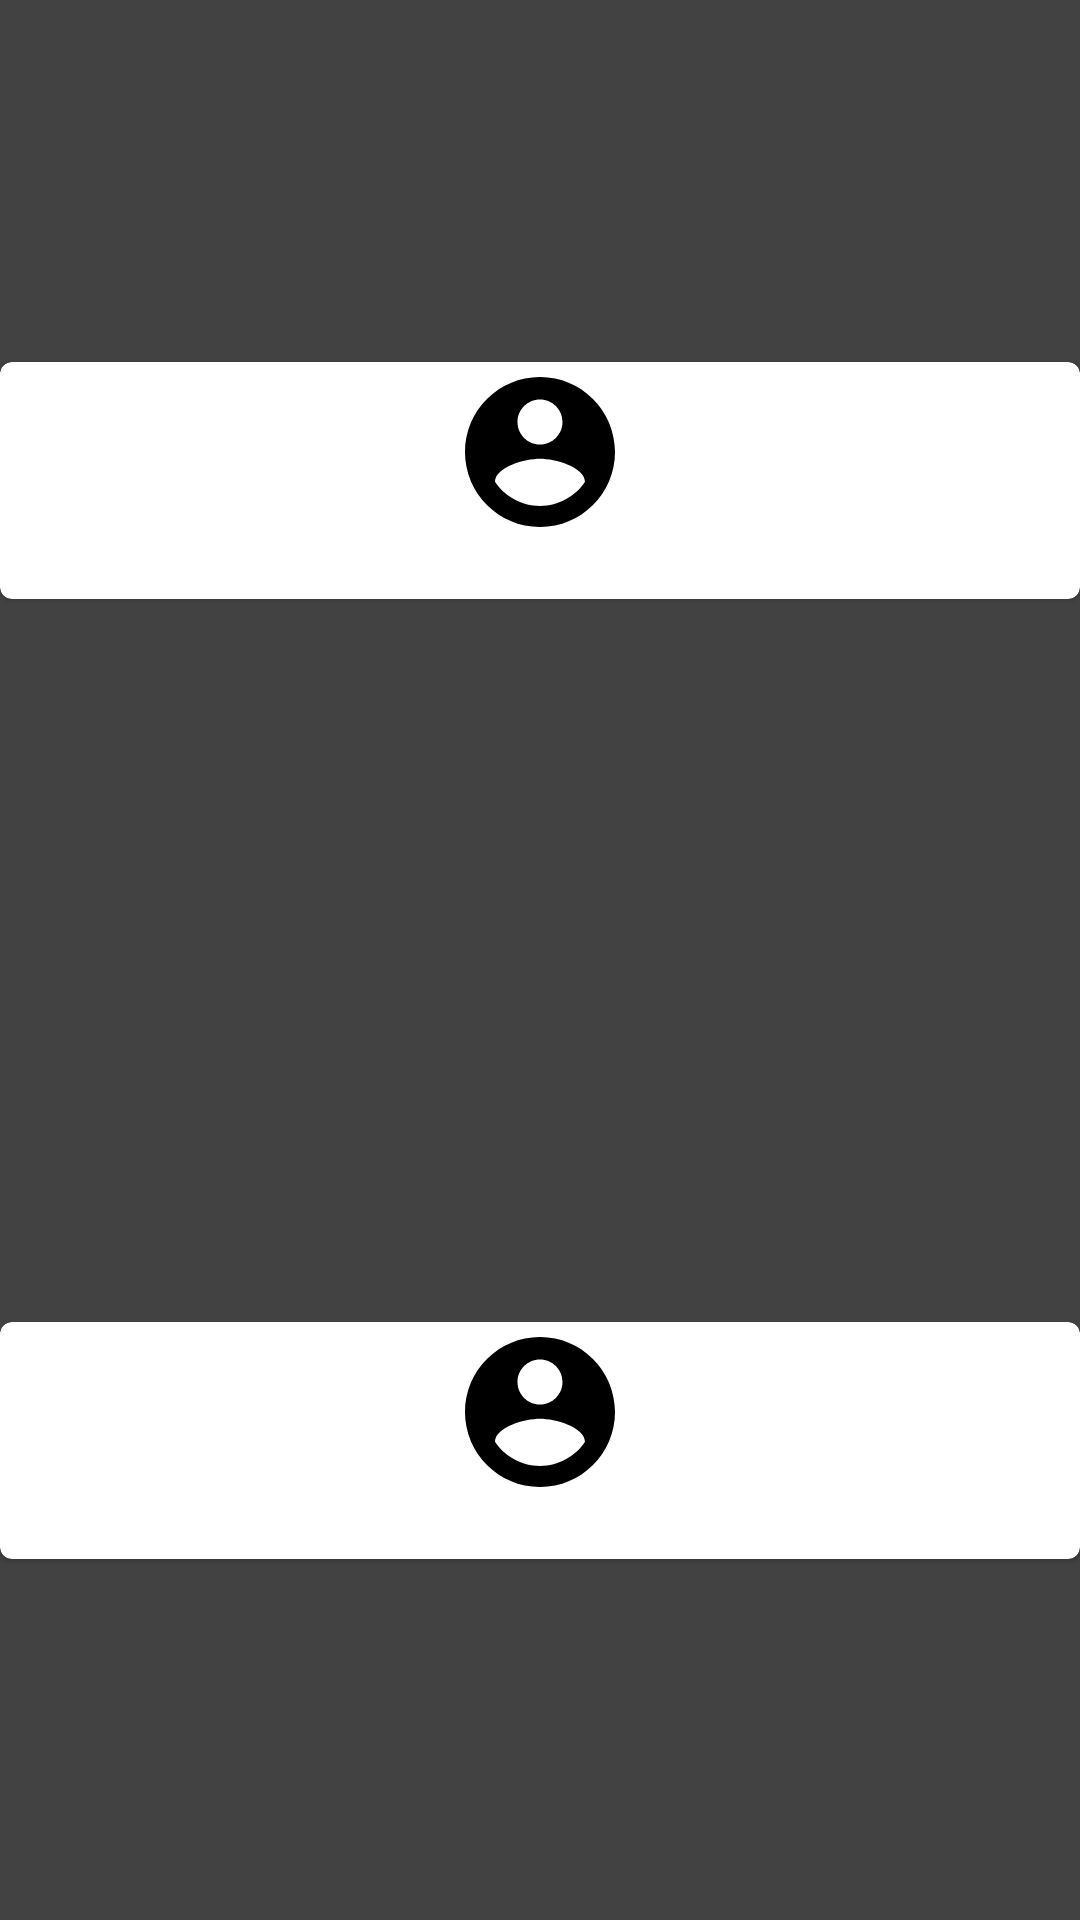

Where to tap for icons on this 1080*1920 app screen, as point (x, y):
user: point (540, 452), point (540, 1412)
